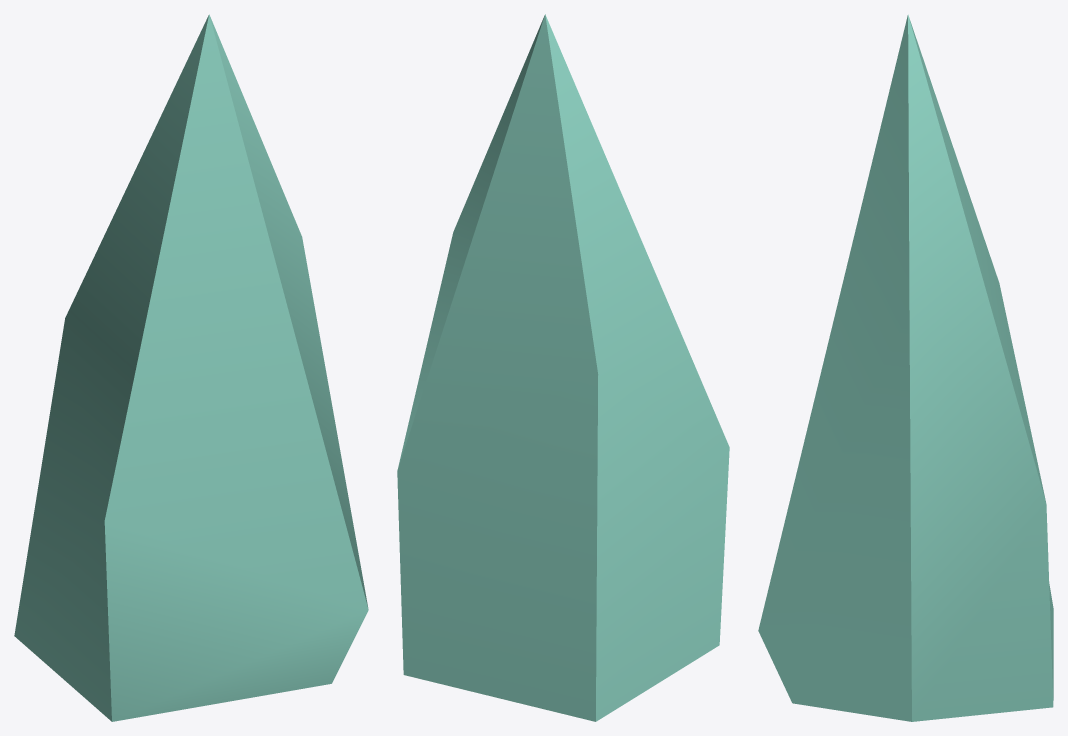
Rendered from cones.fbx.
The picture shows the model from 3 angles, left to right: view 1: azimuth 30°, elevation 25°; view 2: azimuth 150°, elevation 25°; view 3: azimuth 270°, elevation 25°; orthographic projection. The views are drawn at different scales.
Visible parts, largest first — view 1: pCone1; view 2: pCone1; view 3: pCone1.
Part boxes in pixels (<box>): pCone1: <box>14,14,368,721</box>; pCone1: <box>397,14,729,721</box>; pCone1: <box>758,14,1053,721</box>.
Size of the model in its own units: 1.98 by 4.87 by 1.99.
